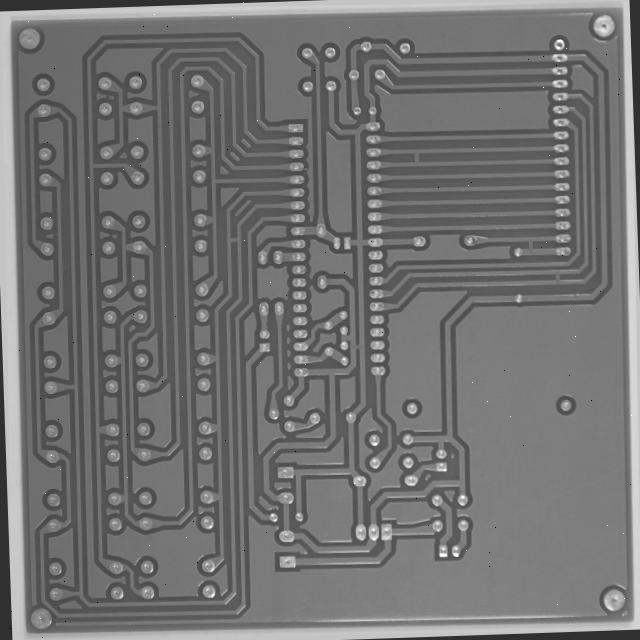short: (406, 143, 424, 167), (552, 261, 567, 284), (220, 232, 239, 250), (523, 230, 538, 252), (350, 339, 368, 354)
